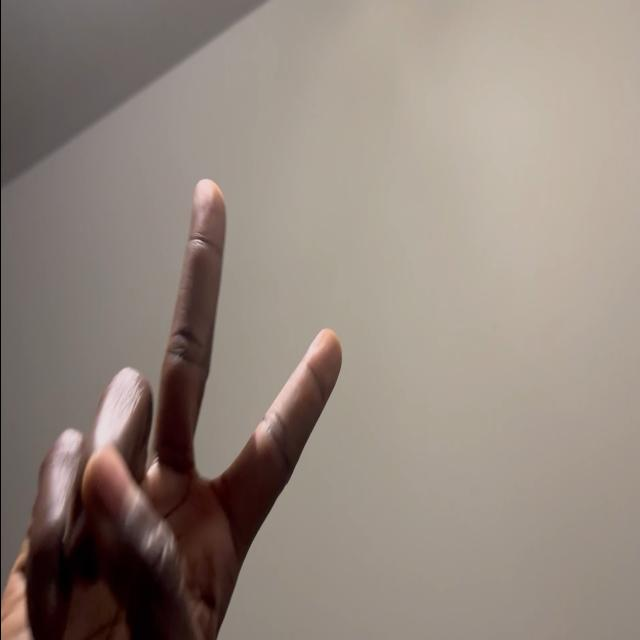Scissors: (1, 179, 343, 640)
